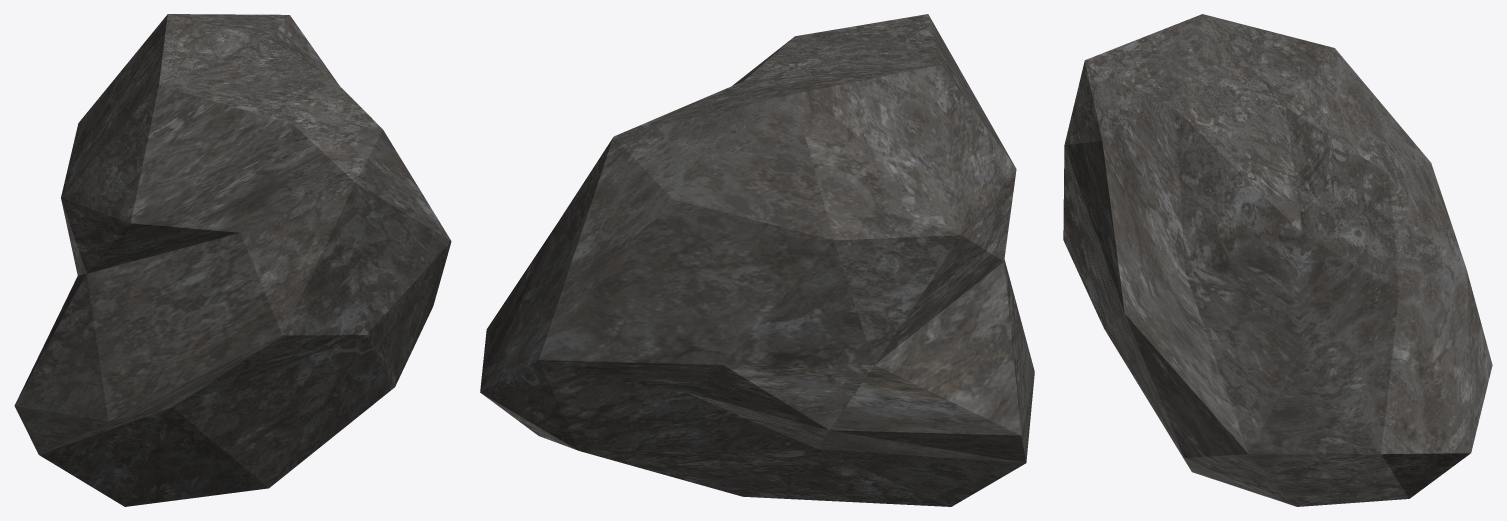
The model's file is Asteroid_03_LOD2.FBX.
The picture shows the model from 3 angles, left to right: view 1: azimuth 30°, elevation 25°; view 2: azimuth 150°, elevation 25°; view 3: azimuth 270°, elevation 25°; orthographic projection. The views are drawn at different scales.
Parts seen in each view (by area): view 1: Asteriod_03_LOD2; view 2: Asteriod_03_LOD2; view 3: Asteriod_03_LOD2.
Boxes of the visible parts, x1=… form: Asteriod_03_LOD2: x1=14, y1=14, x2=451, y2=506; Asteriod_03_LOD2: x1=480, y1=14, x2=1034, y2=506; Asteriod_03_LOD2: x1=1063, y1=14, x2=1492, y2=506.
Size of the model in its own units: 740 by 642 by 607.
Materials: 1 (1 with a texture image).
